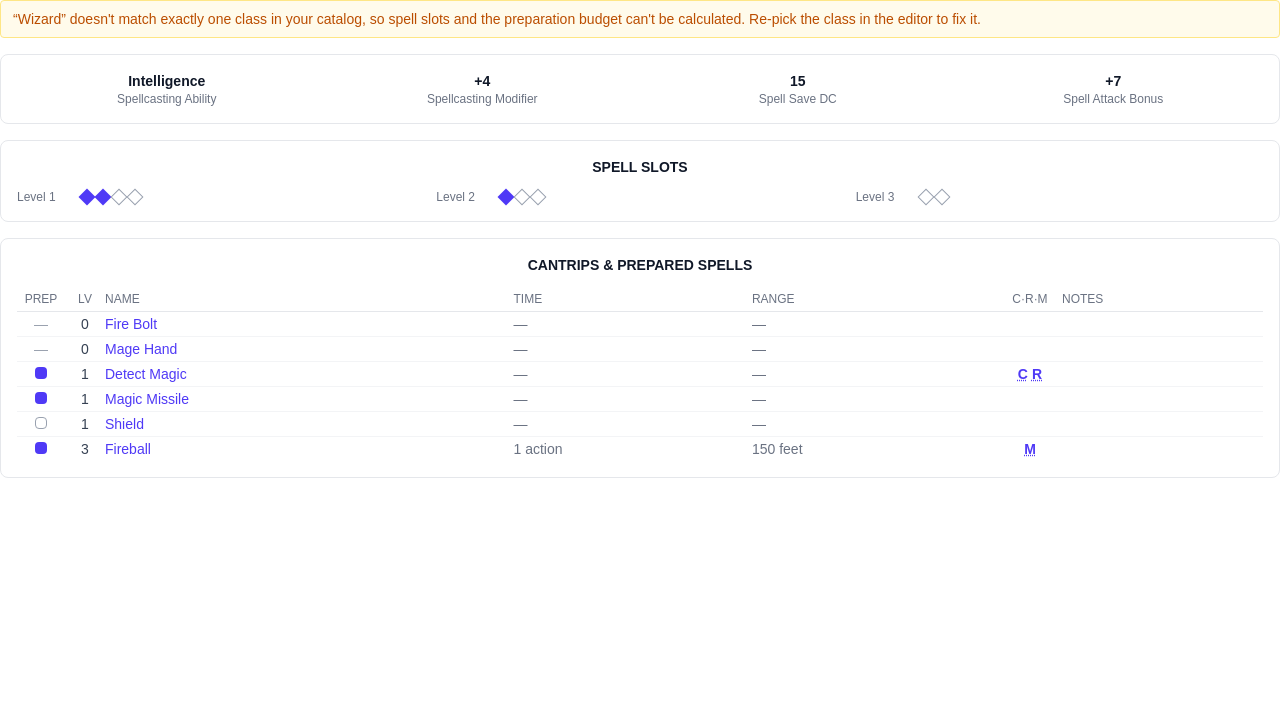
Test case: SpellcastingSection › spell-card popover (VEG-413) › renders each spell name as a button and opens a free-typed card (read-only viewer)
The image size is (1280, 720).
What coordinates should you click on to do the following:
click the button with aria-label "View Magic Missile details"
I would click on:
 (147, 399)
Its box is [105,389,189,409].
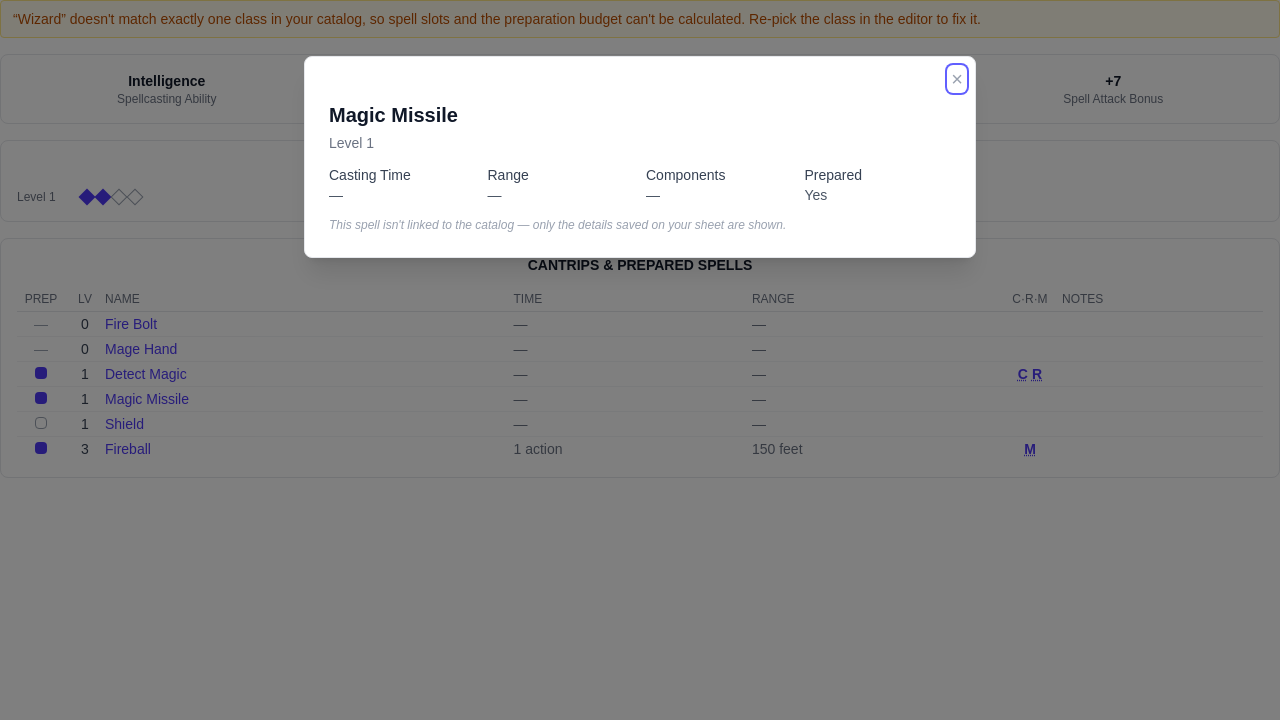
Check: the dialog is shown, box [304,56,976,258]
Check: the text with test id "not-linked-hint" is shown, box [329,218,786,232]
